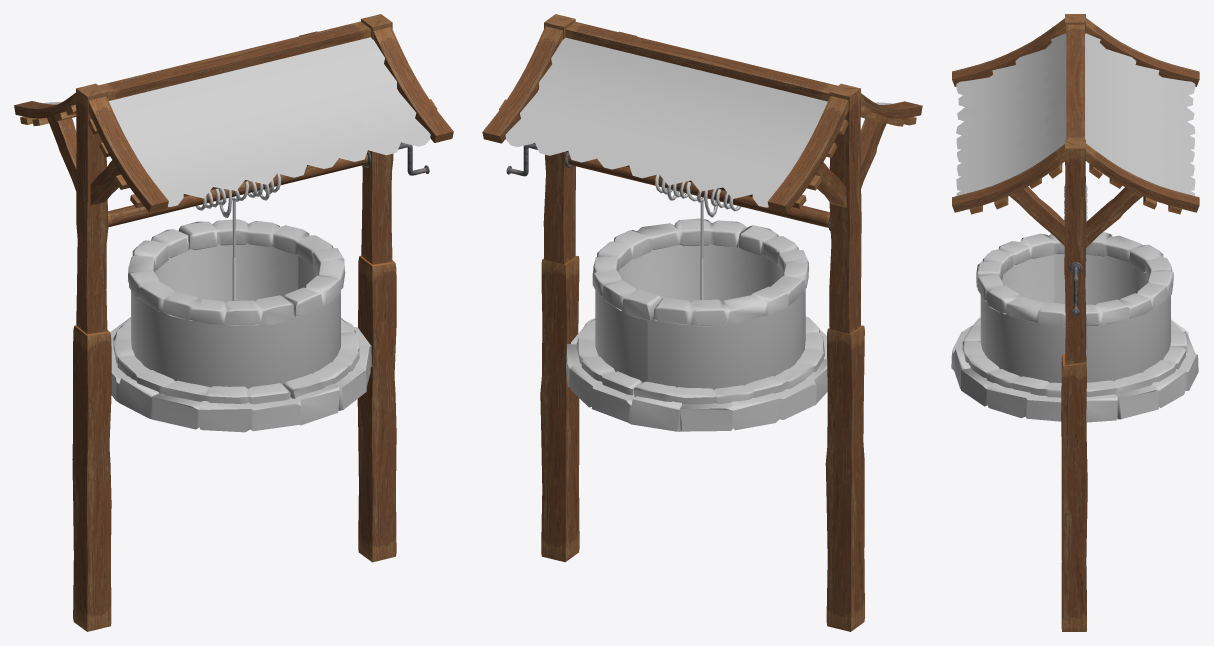
The model's file is SM_Farm_Well_01.fbx.
The picture shows the model from 3 angles, left to right: view 1: azimuth 30°, elevation 25°; view 2: azimuth 150°, elevation 25°; view 3: azimuth 270°, elevation 25°; orthographic projection. The views are drawn at different scales.
Parts seen in each view (by area): view 1: SM_Farm_Well_01_LOD0; view 2: SM_Farm_Well_01_LOD0; view 3: SM_Farm_Well_01_LOD0.
Part boxes in pixels (x1,y1,x2,y2): SM_Farm_Well_01_LOD0: (14,14,453,631); SM_Farm_Well_01_LOD0: (482,14,922,631); SM_Farm_Well_01_LOD0: (951,14,1199,631).
Size of what is drawn, in the model's own units: 336 by 487 by 227.
